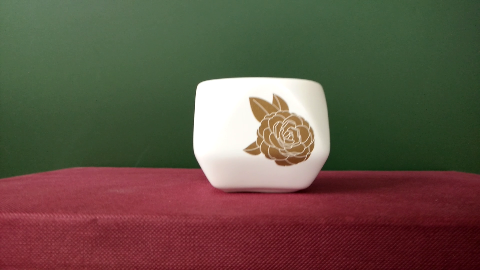flower: (241, 90, 315, 167)
